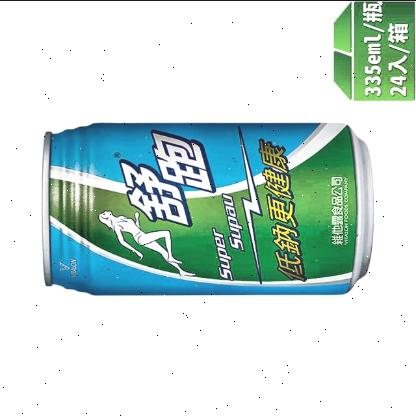Can: (35, 118, 377, 298)
